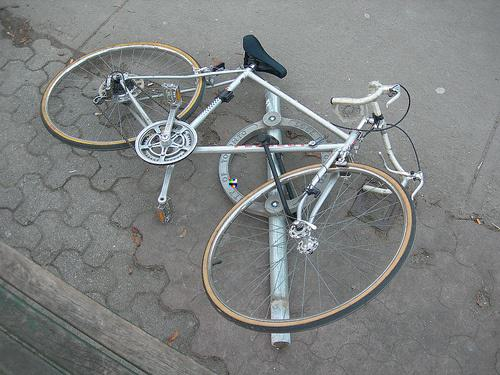car: (40, 33, 426, 334)
